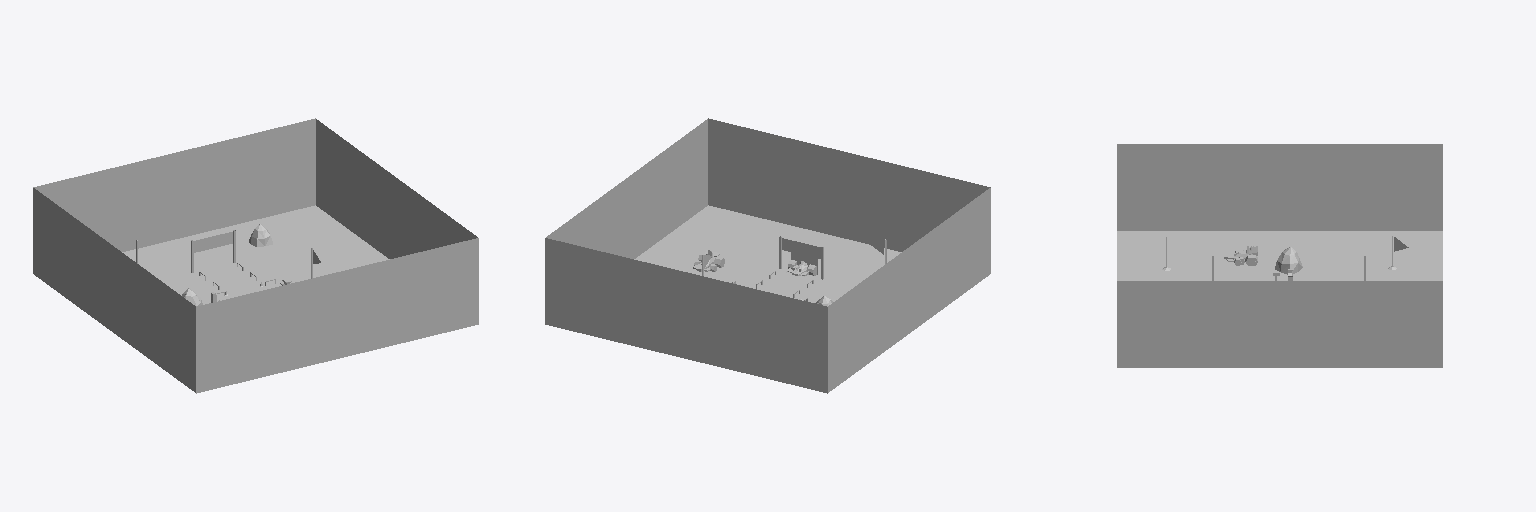
Rendered from RAL.obj.
3 views of the same model, side by side, from view 1: azimuth 30°, elevation 25°; view 2: azimuth 150°, elevation 25°; view 3: azimuth 270°, elevation 25° (orthographic).
Visible parts, largest first — view 1: RAL; view 2: RAL; view 3: RAL.
Part boxes in pixels (x1,y1,x2,y2): RAL: (33, 118, 478, 393); RAL: (545, 118, 990, 393); RAL: (1117, 144, 1442, 367).
Size of the model in its own units: 512 by 151 by 512.